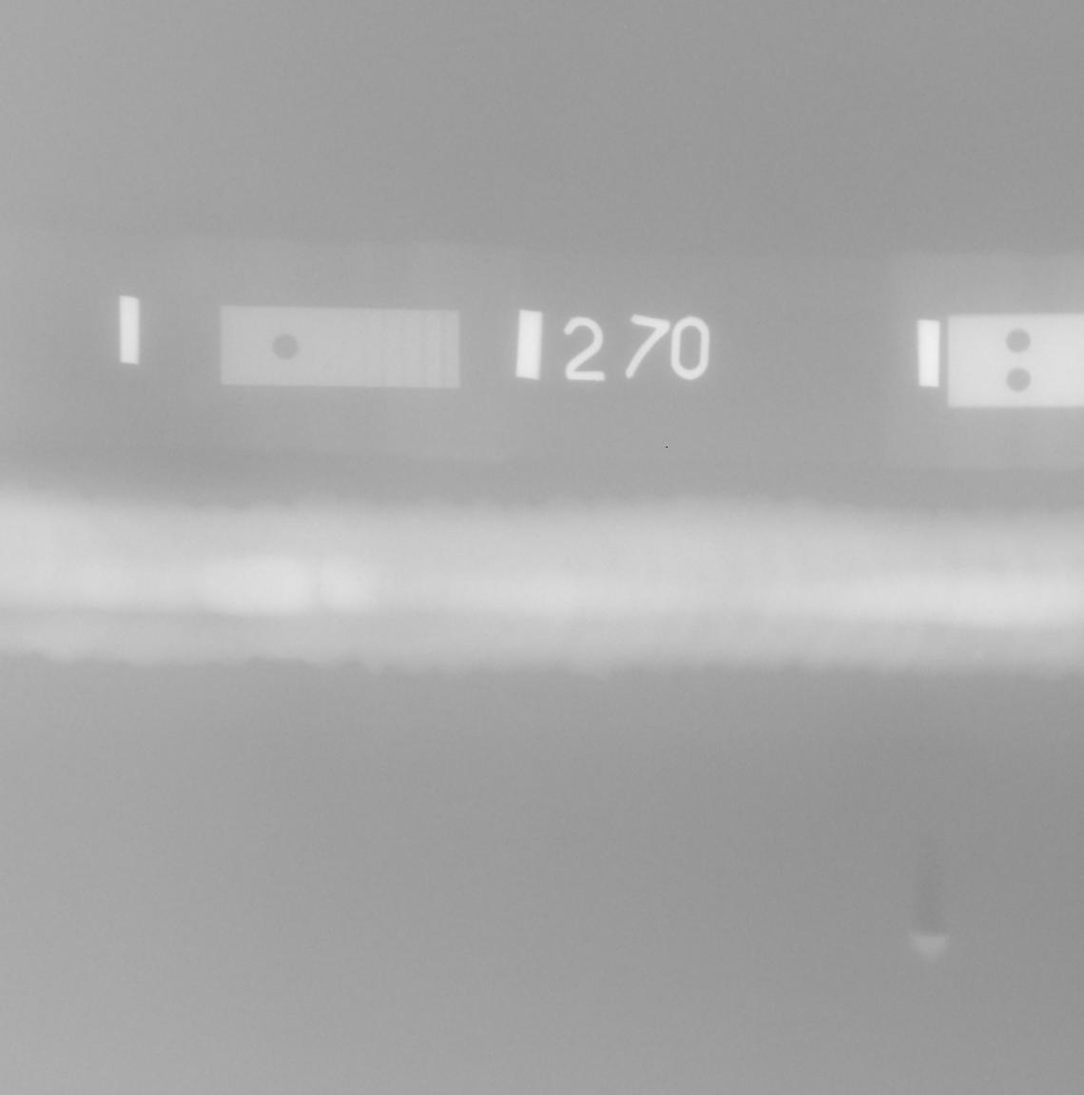Reference Standard 1: (220, 305, 459, 388)
